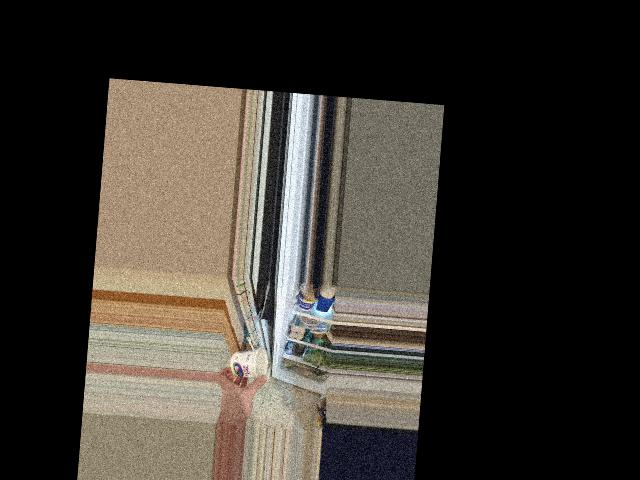cotage: (228, 347, 270, 382)
